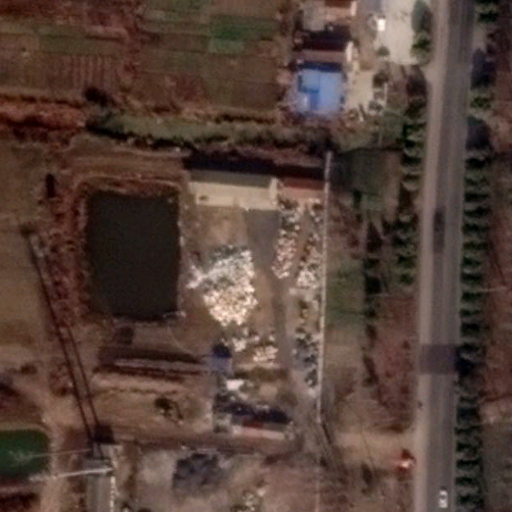msw: (187, 248, 255, 327), (272, 196, 323, 287)
